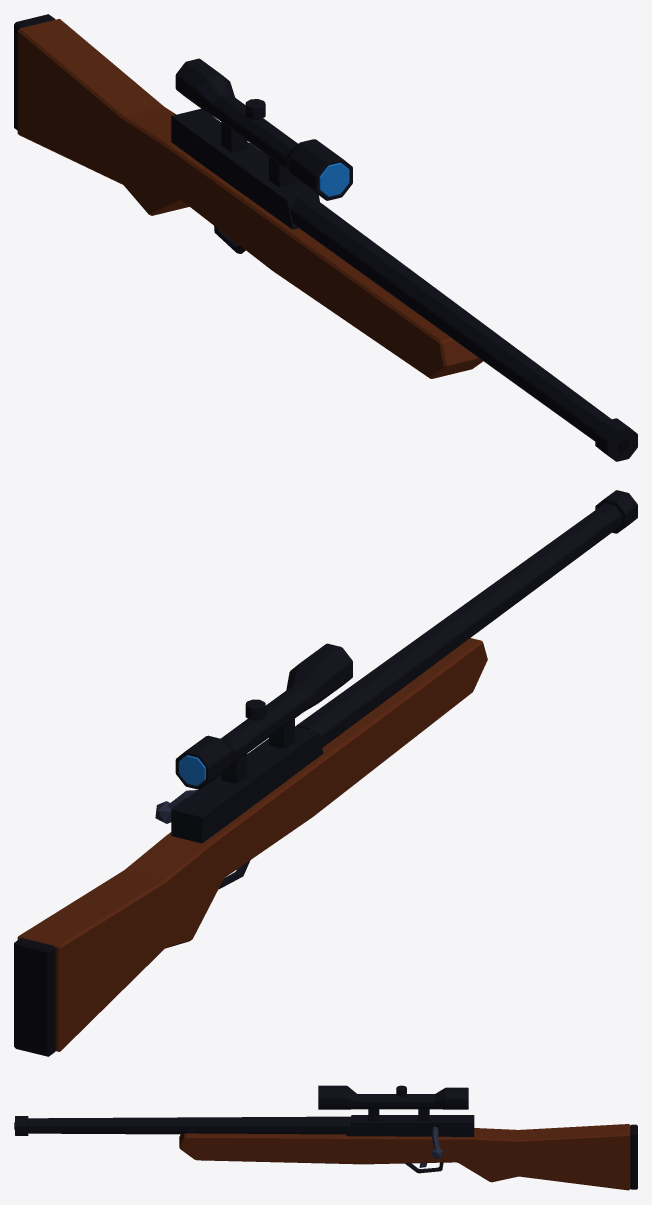
The model's file is myw_huntingrifle.obj.
The picture shows the model from 3 angles, top to bottom: view 1: azimuth 30°, elevation 25°; view 2: azimuth 150°, elevation 25°; view 3: azimuth 270°, elevation 25°; orthographic projection. The views are drawn at different scales.
Parts seen in each view (by area): view 1: Stock, Barrel, Scope; view 2: Stock, Barrel, Scope; view 3: Stock, Barrel, Scope, Bolt.
Part boxes in pixels (x1,y1,x2,y2): Stock: (14, 14, 482, 378); Barrel: (171, 108, 637, 461); Scope: (175, 58, 352, 200); Stock: (14, 638, 487, 1056); Barrel: (171, 490, 637, 843); Scope: (175, 643, 352, 789); Stock: (179, 1124, 637, 1190); Barrel: (14, 1115, 474, 1136); Scope: (318, 1085, 468, 1120); Bolt: (431, 1127, 442, 1159).
Bounding box in the file's own units: 0.4737 × 0.9716 × 5.6.
